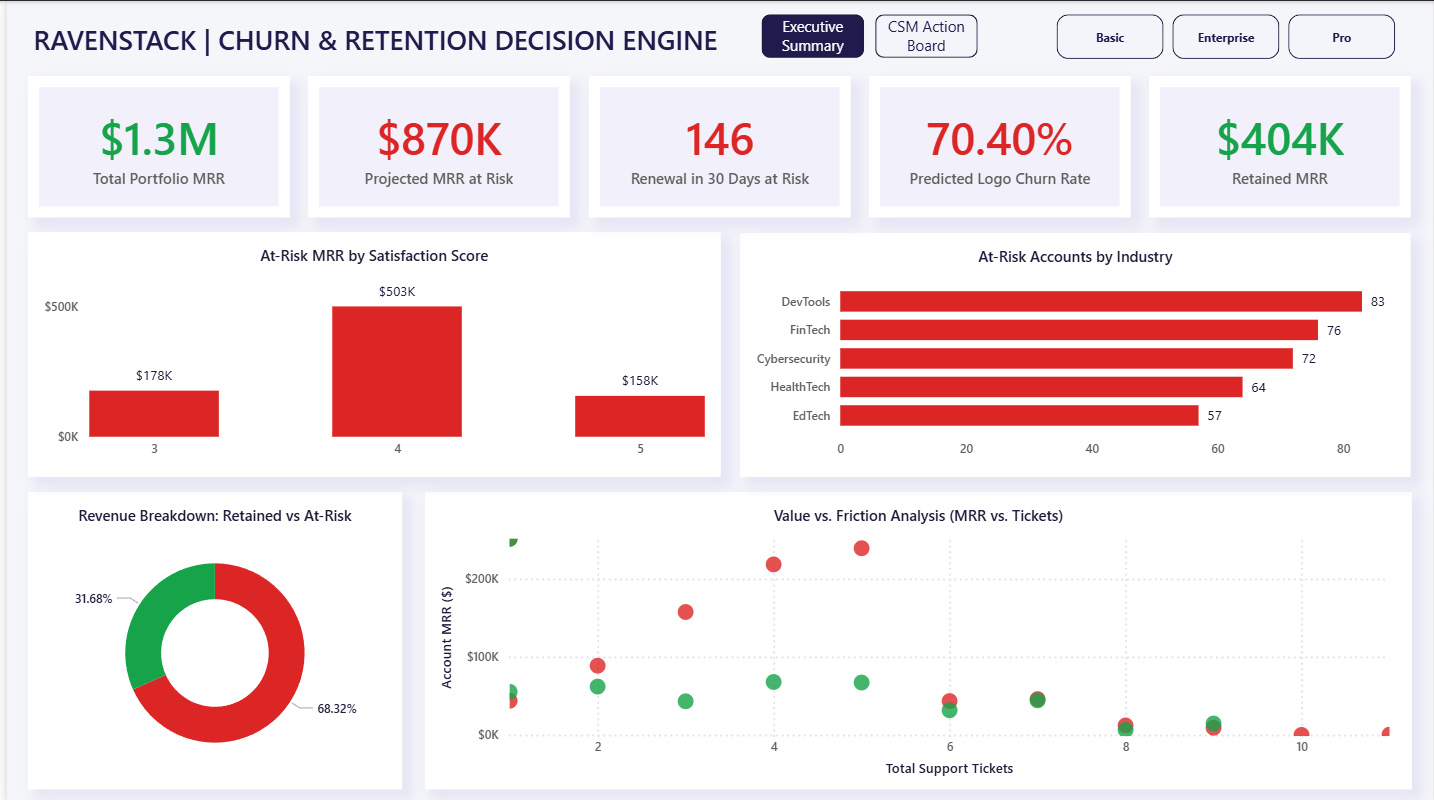

This screenshot's page, from the dashboard's own definition file:
{"tool":"powerbi","page":{"name":"Executive Summary","canvas":[1280,720],"ordinal":0},"visuals":[{"type":"cardVisual","fields":{"Data":["churn_feature_matrix.Total Active MRR"]},"box":[18.9,67.3,235.2,127.5],"z":0},{"type":"cardVisual","fields":{"Data":["churn_feature_matrix.Predicted Logo Churn Rate"]},"box":[773.6,67.3,235.2,127.5],"z":1000},{"type":"cardVisual","fields":{"Data":["churn_feature_matrix.Projected MRR at Risk"]},"box":[270.4,67.3,235.2,127.5],"z":2000},{"type":"donutChart","title":"Revenue Breakdown: Retained vs At-Risk","fields":{"Y":["Sum(churn_feature_matrix.mrr)"],"Category":["churn_feature_matrix.churn_label"]},"box":[19.1,440.4,335.6,267.1],"z":3000},{"type":"scatterChart","title":"Value vs. Friction Analysis (MRR vs. Tickets)","fields":{"X":["churn_feature_matrix.total_tickets"],"Y":["Sum(churn_feature_matrix.mrr)"],"Series":["churn_feature_matrix.churn_label"]},"box":[374.9,440.4,885.9,267.1],"z":4000},{"type":"clusteredColumnChart","title":"At-Risk MRR by Satisfaction Score","fields":{"Y":["churn_feature_matrix.Projected MRR at Risk"],"Category":["churn_feature_matrix.Satisfaction Score No Decimal"]},"box":[18.4,207.7,621.6,219.8],"z":5000},{"type":"textbox","box":[9.5,6.6,734.8,60.7],"z":6000},{"type":"advancedSlicerVisual","fields":{"Values":["churn_feature_matrix.plan_tier"]},"box":[928.3,0,333.1,64.6],"z":7000},{"type":"cardVisual","fields":{"Data":["churn_feature_matrix.Active MRR"]},"box":[1025.2,67.3,235.2,127.5],"z":8000},{"type":"clusteredBarChart","title":"At-Risk Accounts by Industry","fields":{"Category":["churn_feature_matrix.industry"],"Y":["CountNonNull(churn_feature_matrix.account_id)"]},"box":[658.1,208.1,602.4,219.1],"z":9000},{"type":"pageNavigator","box":[663.4,0,223.5,63.7],"z":10000},{"type":"cardVisual","fields":{"Data":["churn_feature_matrix.Accounts Renewing in 30 Days at Risk"]},"box":[522,67.3,235.2,127.5],"z":11000}]}

Visuals, with their boxes in screenshot pixels (x1, y1, x2, y2), scaled from the page's 1280x720 canvas onto the 1434x800 screenshot:
cardVisual - churn_feature_matrix.Total Active MRR: rect(21, 75, 285, 216)
cardVisual - churn_feature_matrix.Predicted Logo Churn Rate: rect(867, 75, 1130, 216)
cardVisual - churn_feature_matrix.Projected MRR at Risk: rect(303, 75, 566, 216)
"Revenue Breakdown: Retained vs At-Risk" donutChart: rect(21, 489, 397, 786)
"Value vs. Friction Analysis (MRR vs. Tickets)" scatterChart: rect(420, 489, 1412, 786)
"At-Risk MRR by Satisfaction Score" clusteredColumnChart: rect(21, 231, 717, 475)
textbox: rect(11, 7, 834, 75)
advancedSlicerVisual - churn_feature_matrix.plan_tier: rect(1040, 0, 1413, 72)
cardVisual - churn_feature_matrix.Active MRR: rect(1149, 75, 1412, 216)
"At-Risk Accounts by Industry" clusteredBarChart: rect(737, 231, 1412, 475)
pageNavigator: rect(743, 0, 994, 71)
cardVisual - churn_feature_matrix.Accounts Renewing in 30 Days at Risk: rect(585, 75, 848, 216)
